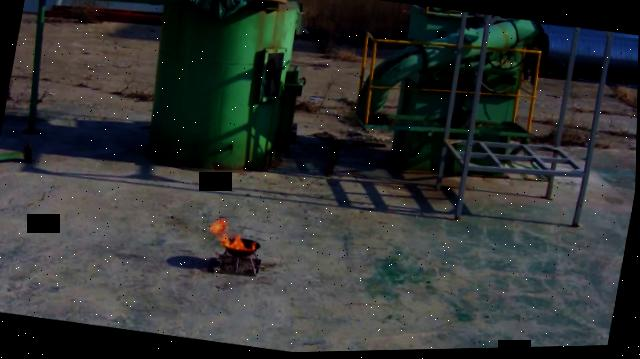fire: (206, 216, 261, 254)
